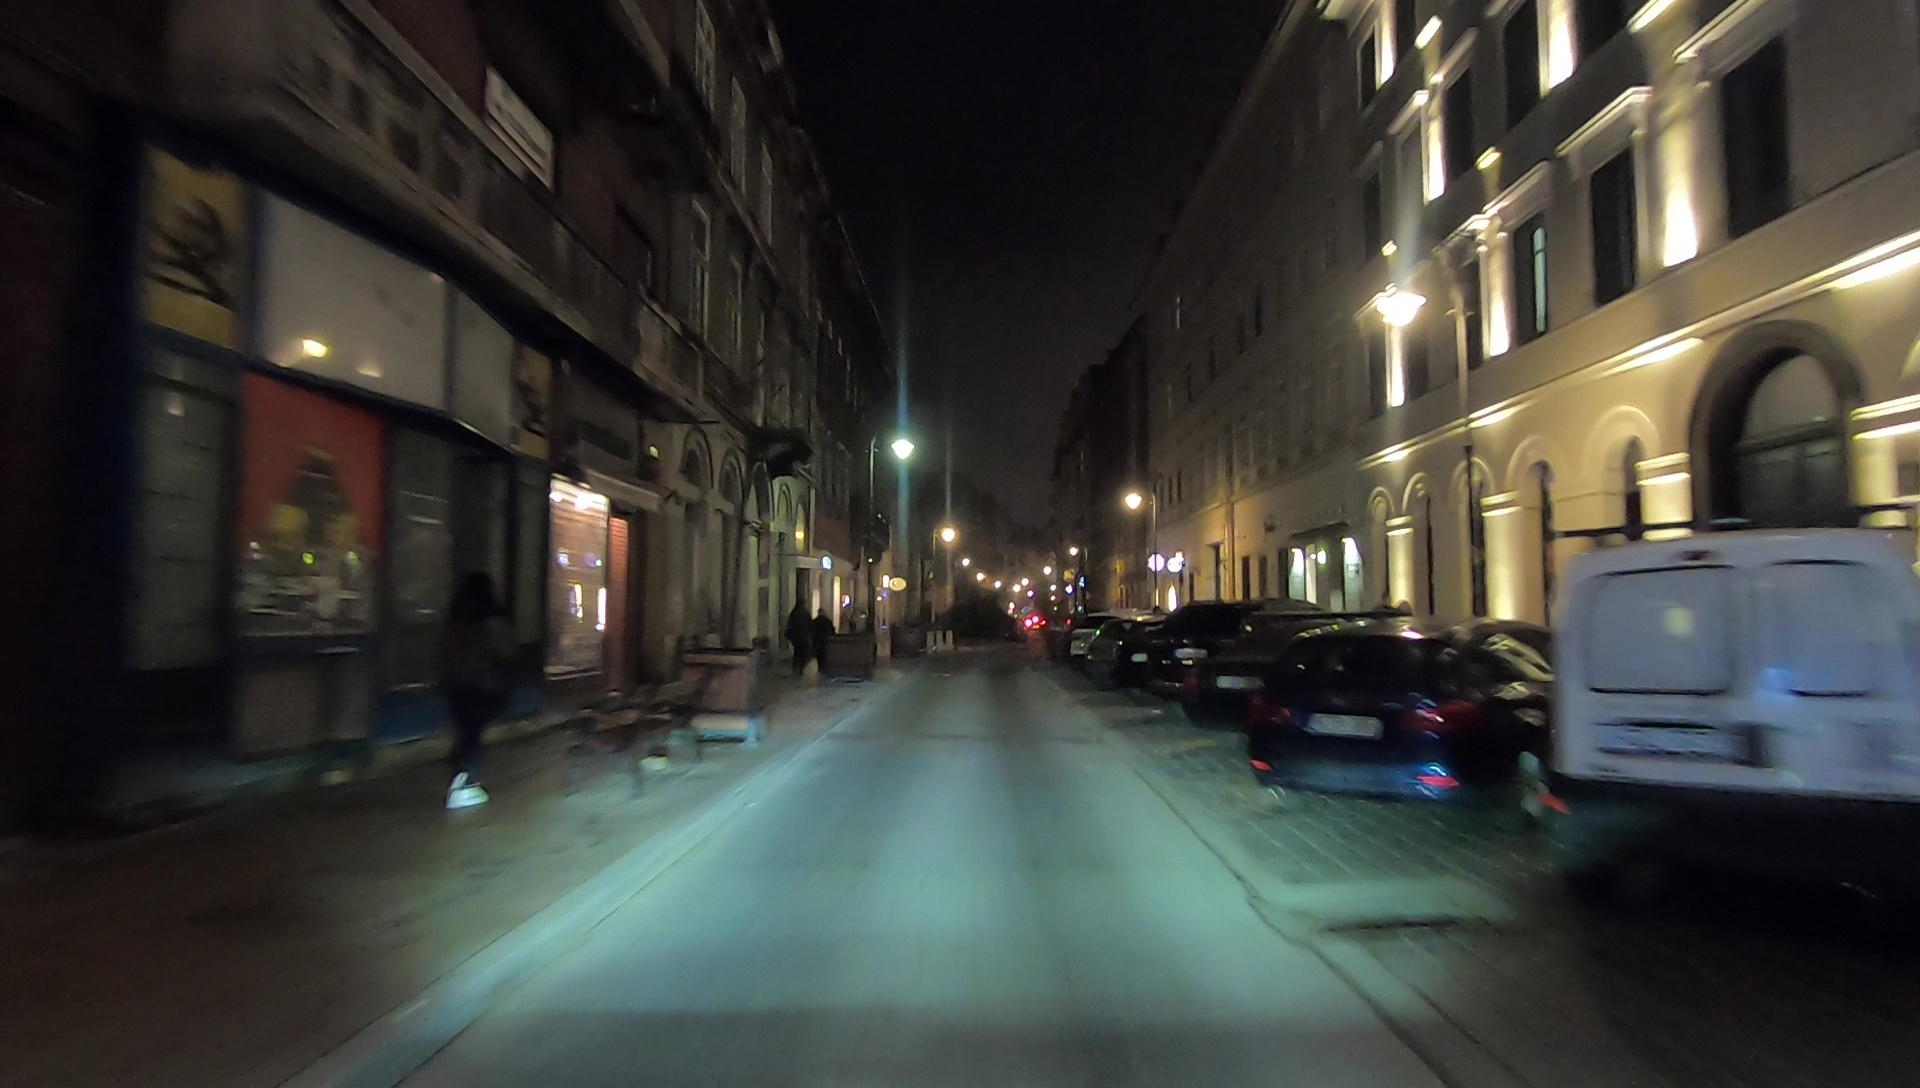person: (436, 571, 502, 804), (786, 593, 808, 674), (810, 606, 832, 674)
